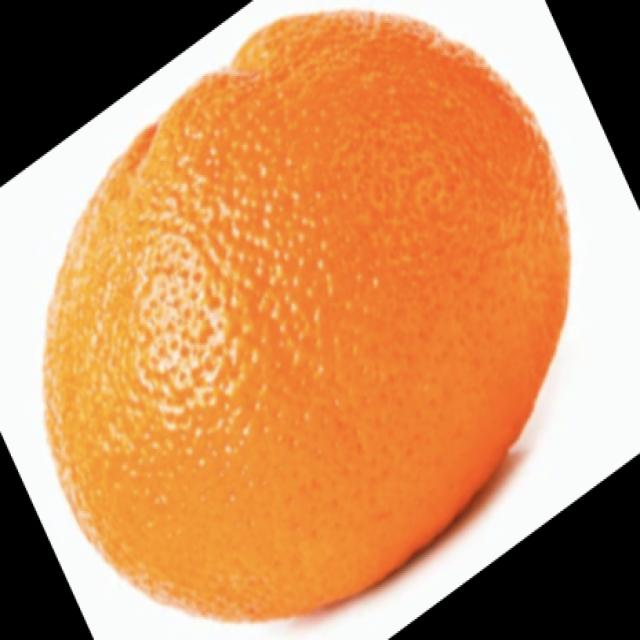matang: (47, 20, 562, 613)
